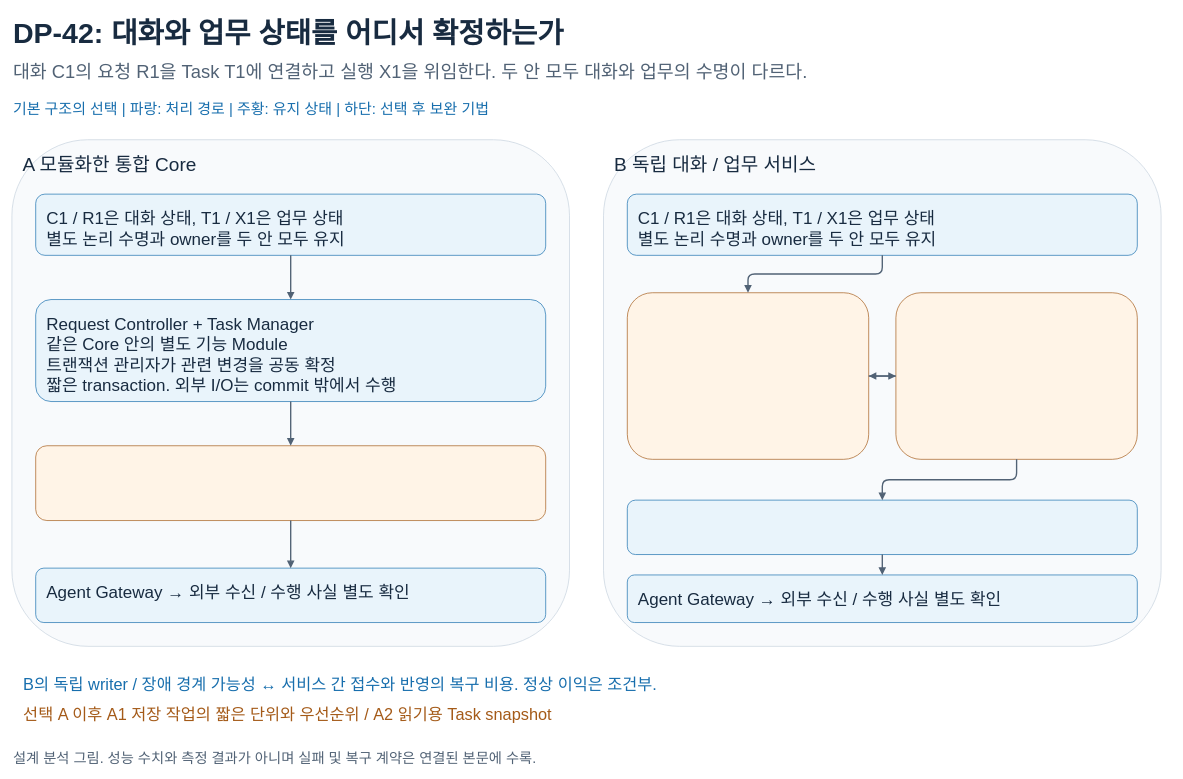
This 1183x779 diagram has some shape labels left out. The shapes that lost their labels are listed below. From the top down, each one's centre as x and y in pixels, then its label:
At point (748, 375): "대화 서비스 R1과 pending 의도 저장 inbox / outbox / receipt 대화 저장소와 writer 업무 접수 사실 반영".
At point (1016, 375): "업무 서비스 T1 / X1 접수와 상태 inbox / outbox / receipt 독립 업무 저장소 / writer 외부 업무 사실 보존".
At point (290, 483): "관련 Request / Task / command 상태 저장 R1↔T1 연결과 X1 의도 / outbox를 함께 확정".
At point (882, 527): "업무 accepted + dispatch 현재성 검사. 대화 반영과 분리".
